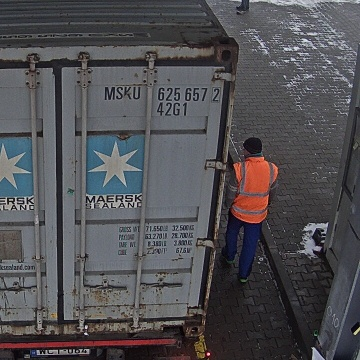serial_id: (104, 86, 219, 101)
